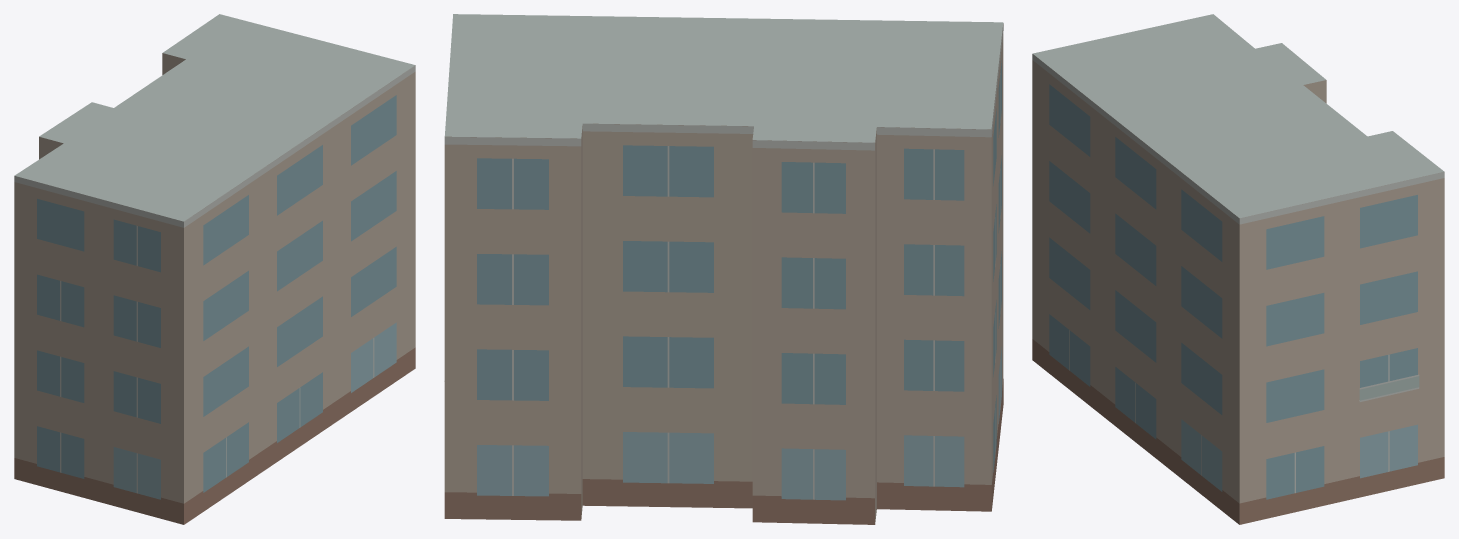
Rendered from survey-upis-32604675.glb.
The picture shows the model from 3 angles, left to right: view 1: azimuth 30°, elevation 25°; view 2: azimuth 150°, elevation 25°; view 3: azimuth 270°, elevation 25°; orthographic projection. The views are drawn at different scales.
Parts seen in each view (by area): view 1: survey-upis-32604675.tmp; view 2: survey-upis-32604675.tmp; view 3: survey-upis-32604675.tmp.
Part boxes in pixels (x1,y1,x2,y2): survey-upis-32604675.tmp: (14, 14, 415, 524); survey-upis-32604675.tmp: (444, 14, 1003, 524); survey-upis-32604675.tmp: (1032, 14, 1444, 524).
Size of the model in its own units: 17.03 by 11.9 by 14.51.
